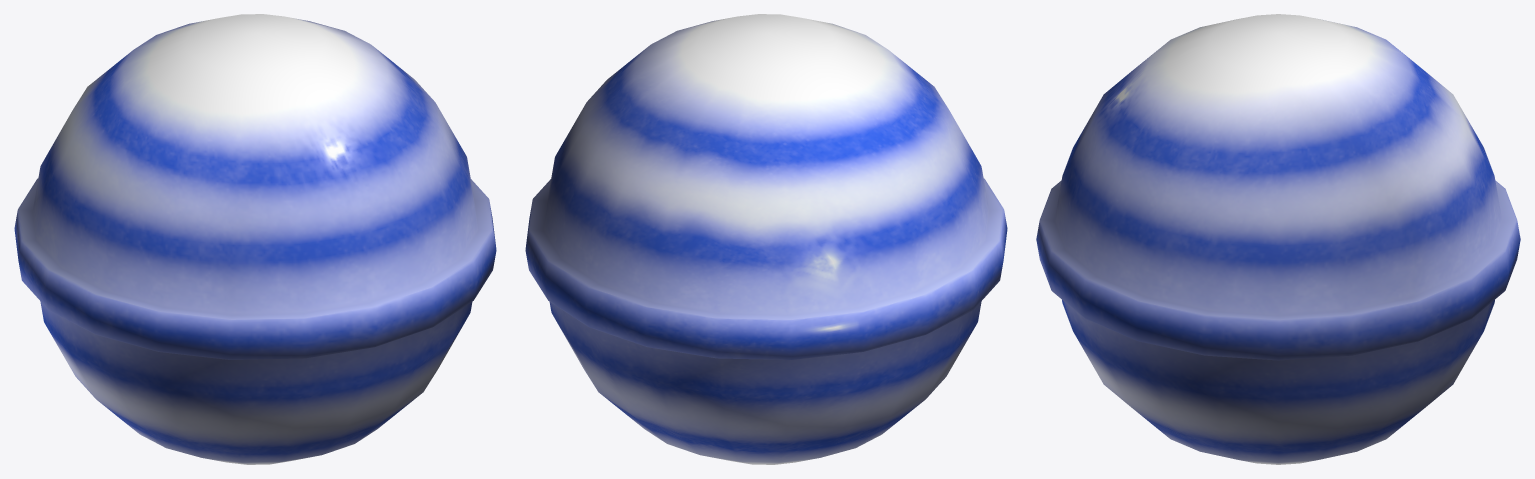
The model's file is 57_Ball_CandyCrush.fbx.
The picture shows the model from 3 angles, left to right: view 1: azimuth 30°, elevation 25°; view 2: azimuth 150°, elevation 25°; view 3: azimuth 270°, elevation 25°; orthographic projection.
Visible parts, largest first — view 1: Ball_CandyCrush; view 2: Ball_CandyCrush; view 3: Ball_CandyCrush.
Part boxes in pixels (x1,y1,x2,y2): Ball_CandyCrush: (14,14,496,464); Ball_CandyCrush: (525,14,1007,464); Ball_CandyCrush: (1036,14,1520,464).
Size of the model in its own units: 0.4072 by 0.3819 by 0.4072.
